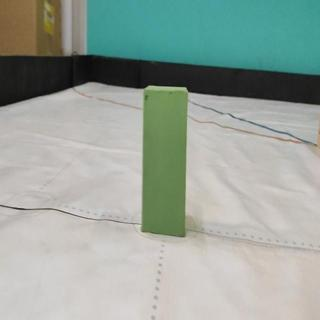greenbox: (142, 84, 189, 240)
